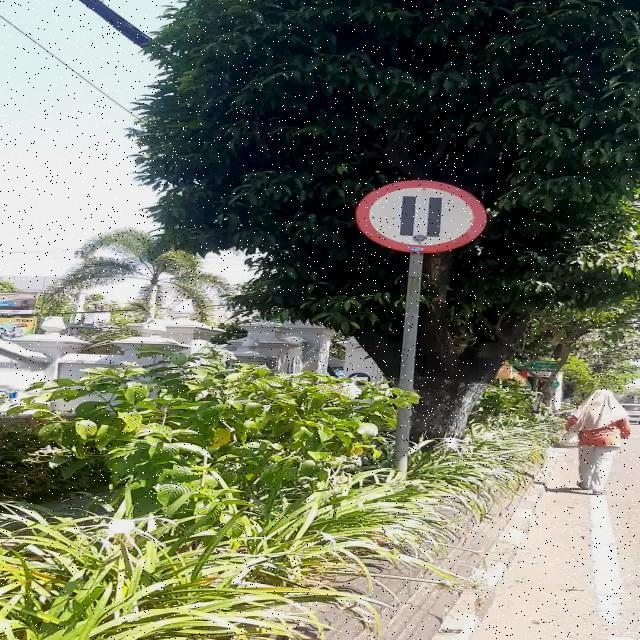Larangan Muatan - 10 ton: (356, 180, 487, 252)
